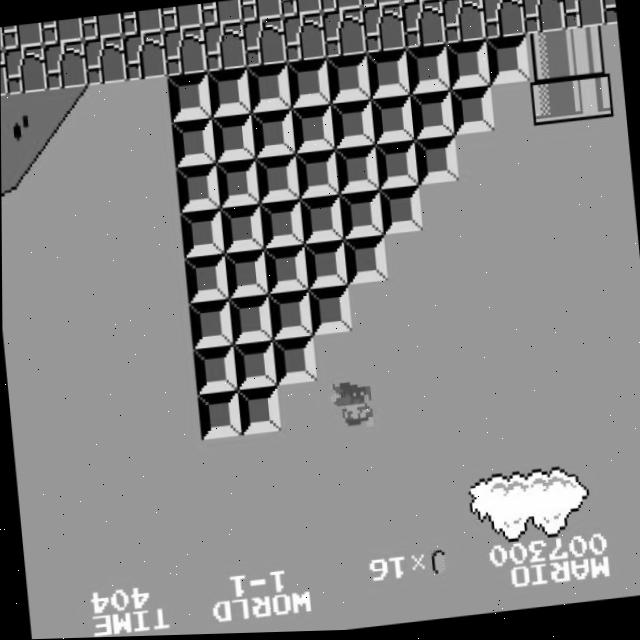11- little_mario: (329, 381, 376, 435)
14- pipe: (564, 29, 610, 79), (524, 33, 570, 83)
15- pipe_head: (569, 74, 614, 124), (529, 78, 574, 128)
17- undestructible_block: (42, 40, 88, 91), (82, 36, 128, 86), (2, 45, 48, 95), (321, 9, 366, 60), (401, 1, 446, 51), (361, 5, 406, 55), (281, 14, 326, 64), (241, 18, 286, 68), (202, 23, 247, 73), (162, 27, 207, 77), (122, 32, 167, 82), (441, 0, 486, 46), (481, 0, 526, 42), (520, 0, 565, 37), (560, 0, 605, 33), (0, 22, 43, 50), (200, 0, 243, 27), (160, 5, 203, 32), (120, 9, 163, 36), (80, 14, 123, 41), (40, 18, 83, 45), (239, 0, 282, 23), (279, 0, 322, 19), (319, 0, 362, 14), (600, 0, 617, 28), (359, 0, 402, 10), (0, 49, 8, 97), (398, 0, 441, 5), (438, 0, 481, 1)
9- hard_block: (365, 50, 411, 101), (325, 55, 371, 105), (285, 59, 331, 109), (245, 64, 291, 114), (227, 296, 273, 346), (187, 300, 233, 350), (170, 118, 216, 168), (413, 138, 459, 187), (373, 142, 419, 191), (342, 238, 388, 287), (302, 242, 348, 291), (262, 246, 308, 295), (214, 160, 260, 209), (174, 164, 220, 213), (485, 38, 530, 88), (449, 87, 494, 137), (445, 42, 490, 92), (409, 91, 454, 141), (405, 47, 450, 97), (378, 187, 423, 237), (369, 96, 414, 146), (338, 191, 383, 241), (330, 100, 375, 150), (307, 287, 352, 337), (298, 196, 343, 246), (290, 105, 335, 155), (271, 336, 316, 386), (267, 291, 312, 341), (258, 200, 303, 250), (250, 109, 295, 159), (231, 341, 276, 391), (219, 204, 264, 254), (210, 114, 255, 164), (206, 68, 251, 118), (192, 345, 237, 395), (179, 209, 224, 259), (166, 73, 211, 123), (334, 147, 379, 196), (294, 151, 339, 200), (254, 156, 299, 205), (236, 387, 281, 436), (223, 251, 268, 300), (196, 391, 241, 440), (183, 255, 228, 304)
